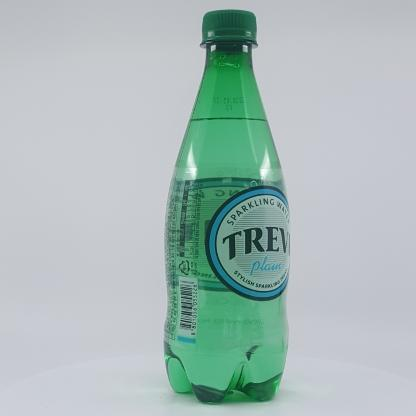---------PET-500ML: (164, 9, 290, 403)
